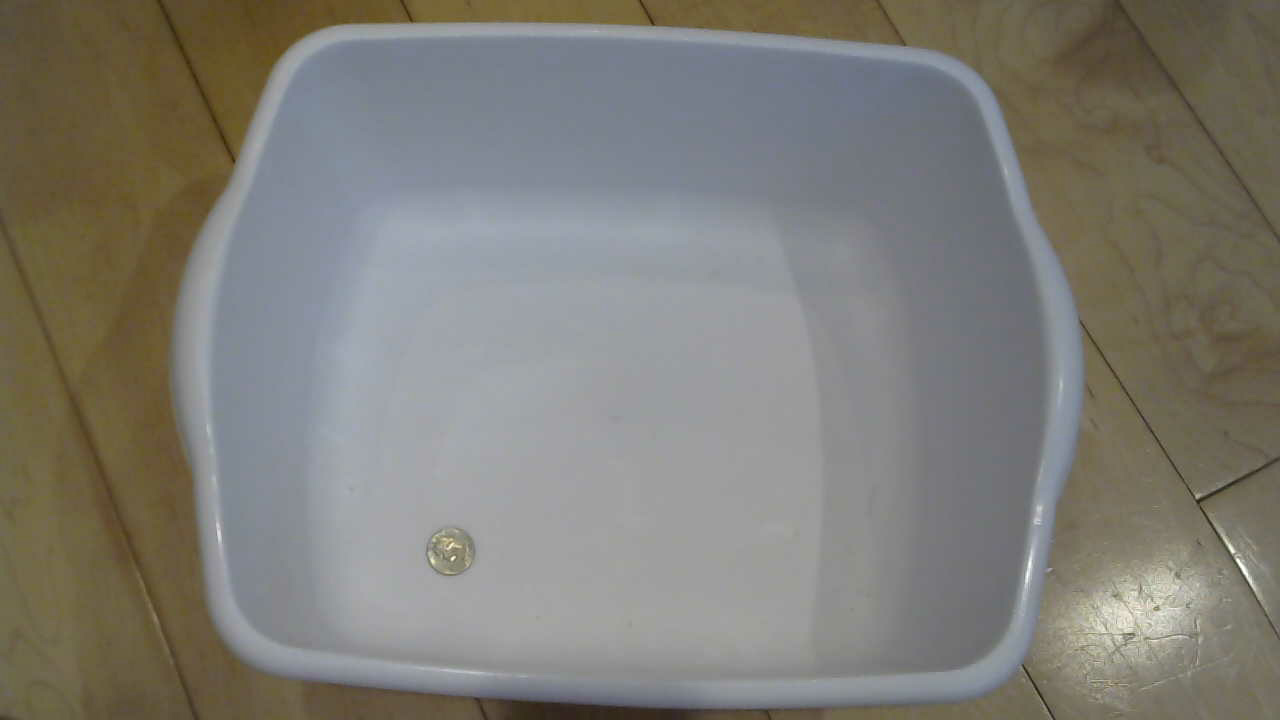coin: (421, 528, 485, 587)
